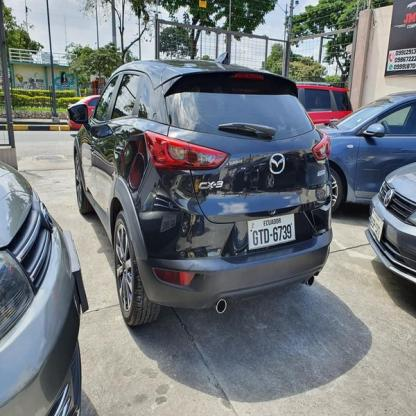Placa: (243, 216, 301, 247)
